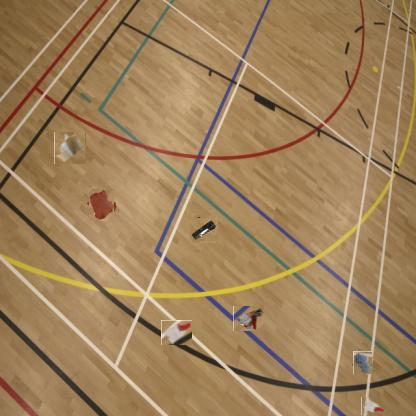dirty: (54, 133, 86, 164), (233, 305, 264, 331), (161, 320, 192, 345), (192, 216, 218, 242), (361, 397, 384, 415)
liquid: (87, 190, 116, 220), (352, 352, 373, 373)
